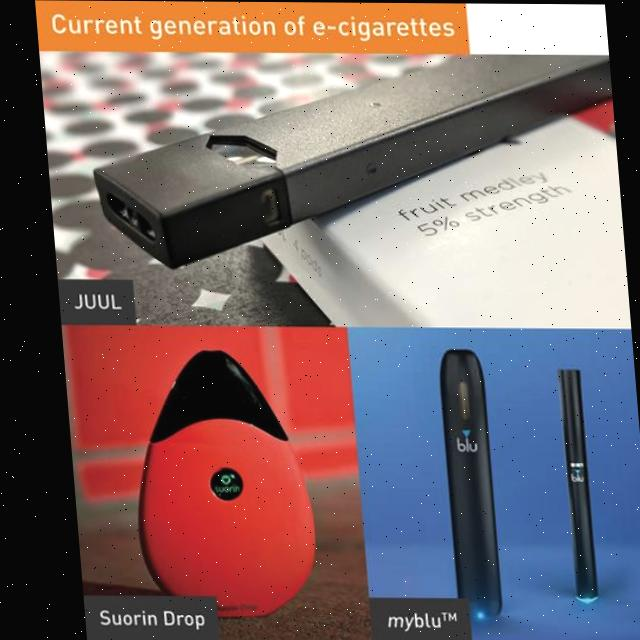vape: (80, 53, 622, 273), (117, 347, 315, 620), (430, 346, 494, 619), (550, 367, 591, 604)
